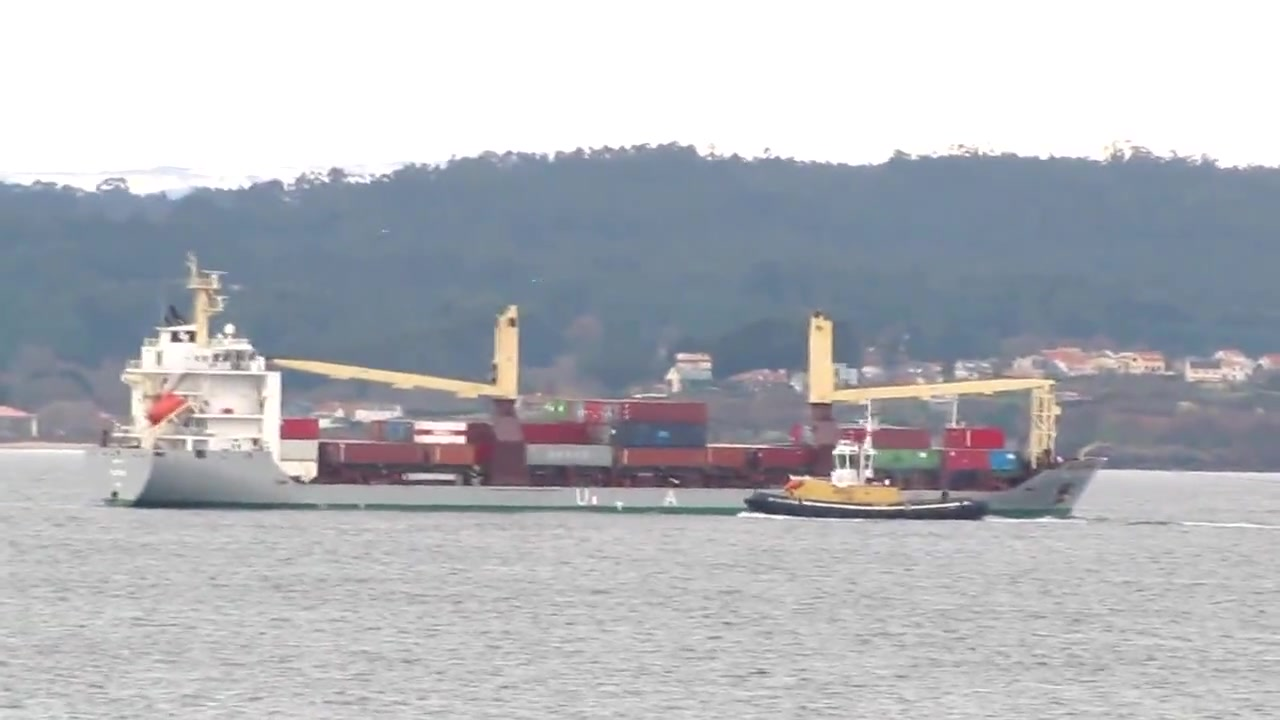boat: (100, 252, 1112, 516)
